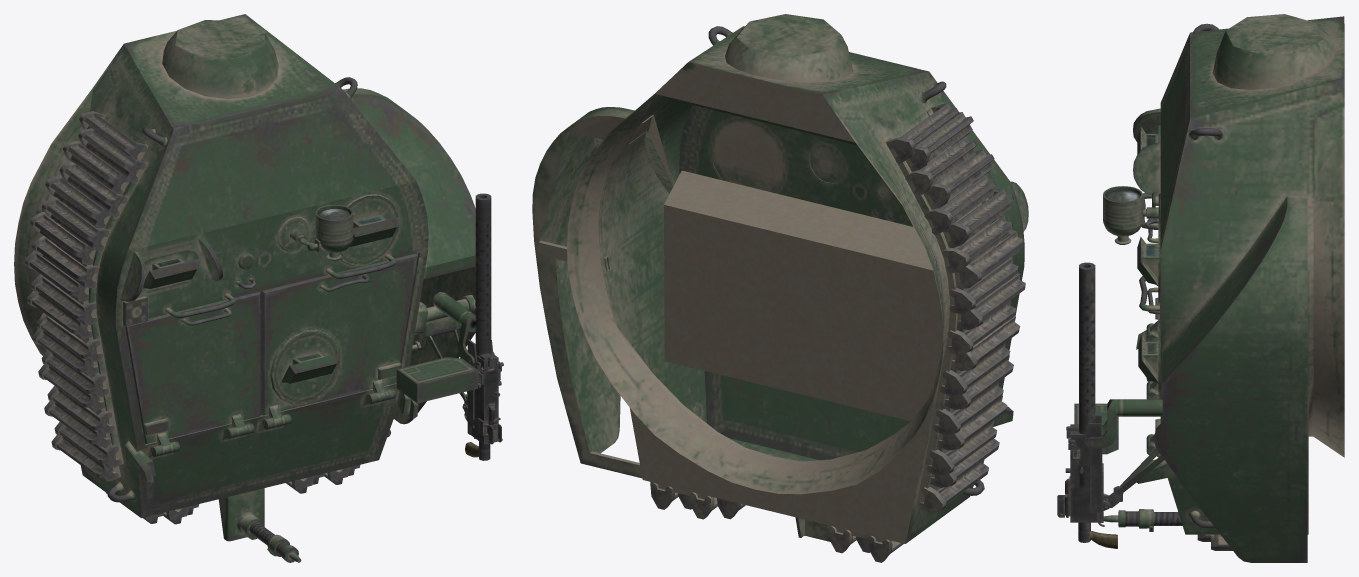
Rendered from Turret_02.glb.
The picture shows the model from 3 angles, left to right: view 1: azimuth 30°, elevation 25°; view 2: azimuth 150°, elevation 25°; view 3: azimuth 270°, elevation 25°; orthographic projection. The views are drawn at different scales.
Visible parts, largest first — view 1: set_0_group_0; view 2: set_0_group_0; view 3: set_0_group_0.
Boxes of the visible parts, <box> form: set_0_group_0: <box>14,14,503,562</box>; set_0_group_0: <box>532,14,1028,562</box>; set_0_group_0: <box>1057,14,1344,562</box>.
Bounding box in the file's own units: 1.61 × 1.85 × 0.9608.
1 material, 1 textured.
